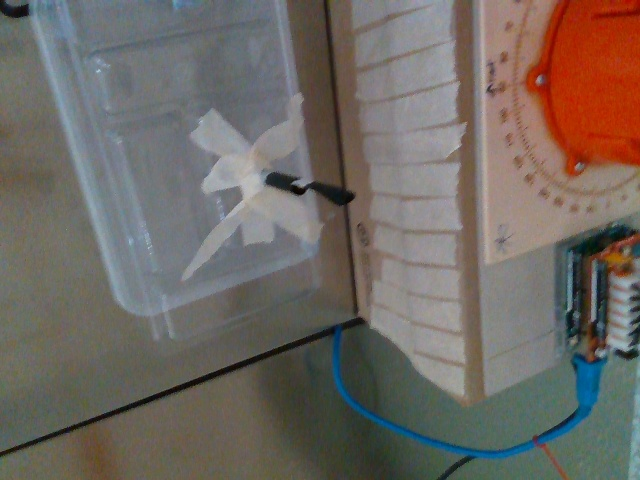test_strip: (290, 171, 354, 210)
